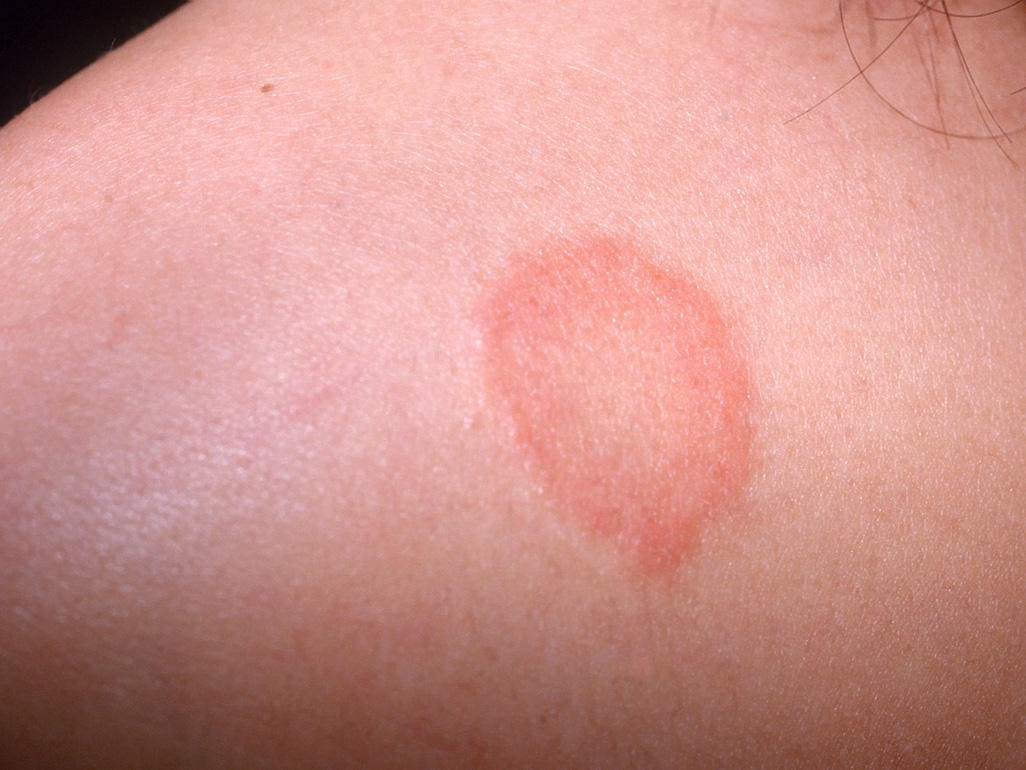Ringworm: (472, 204, 790, 608)
